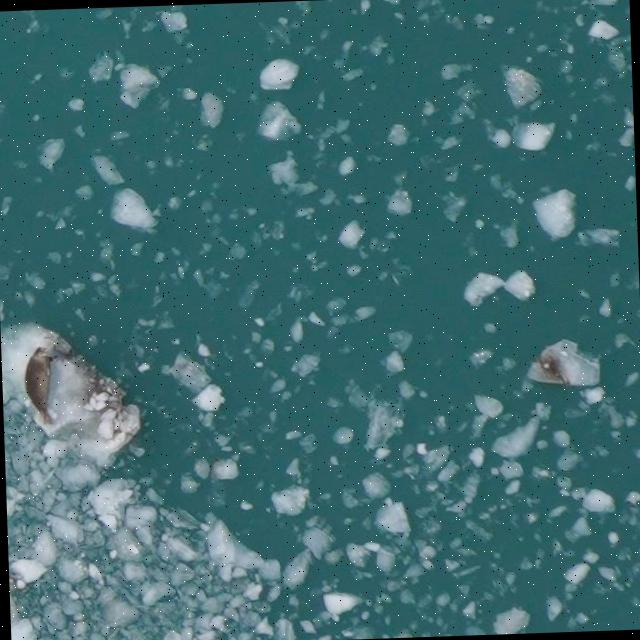seal: (23, 347, 54, 423)
